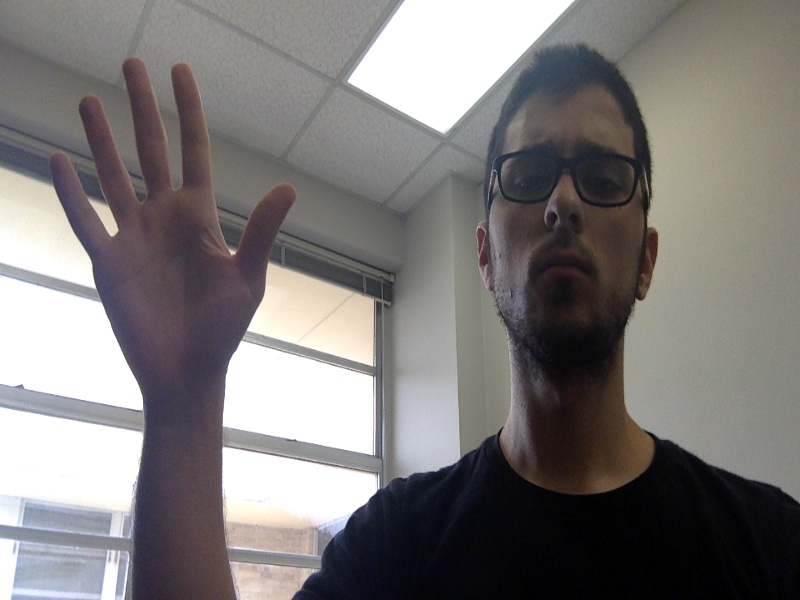5-hand: (49, 57, 296, 371)
